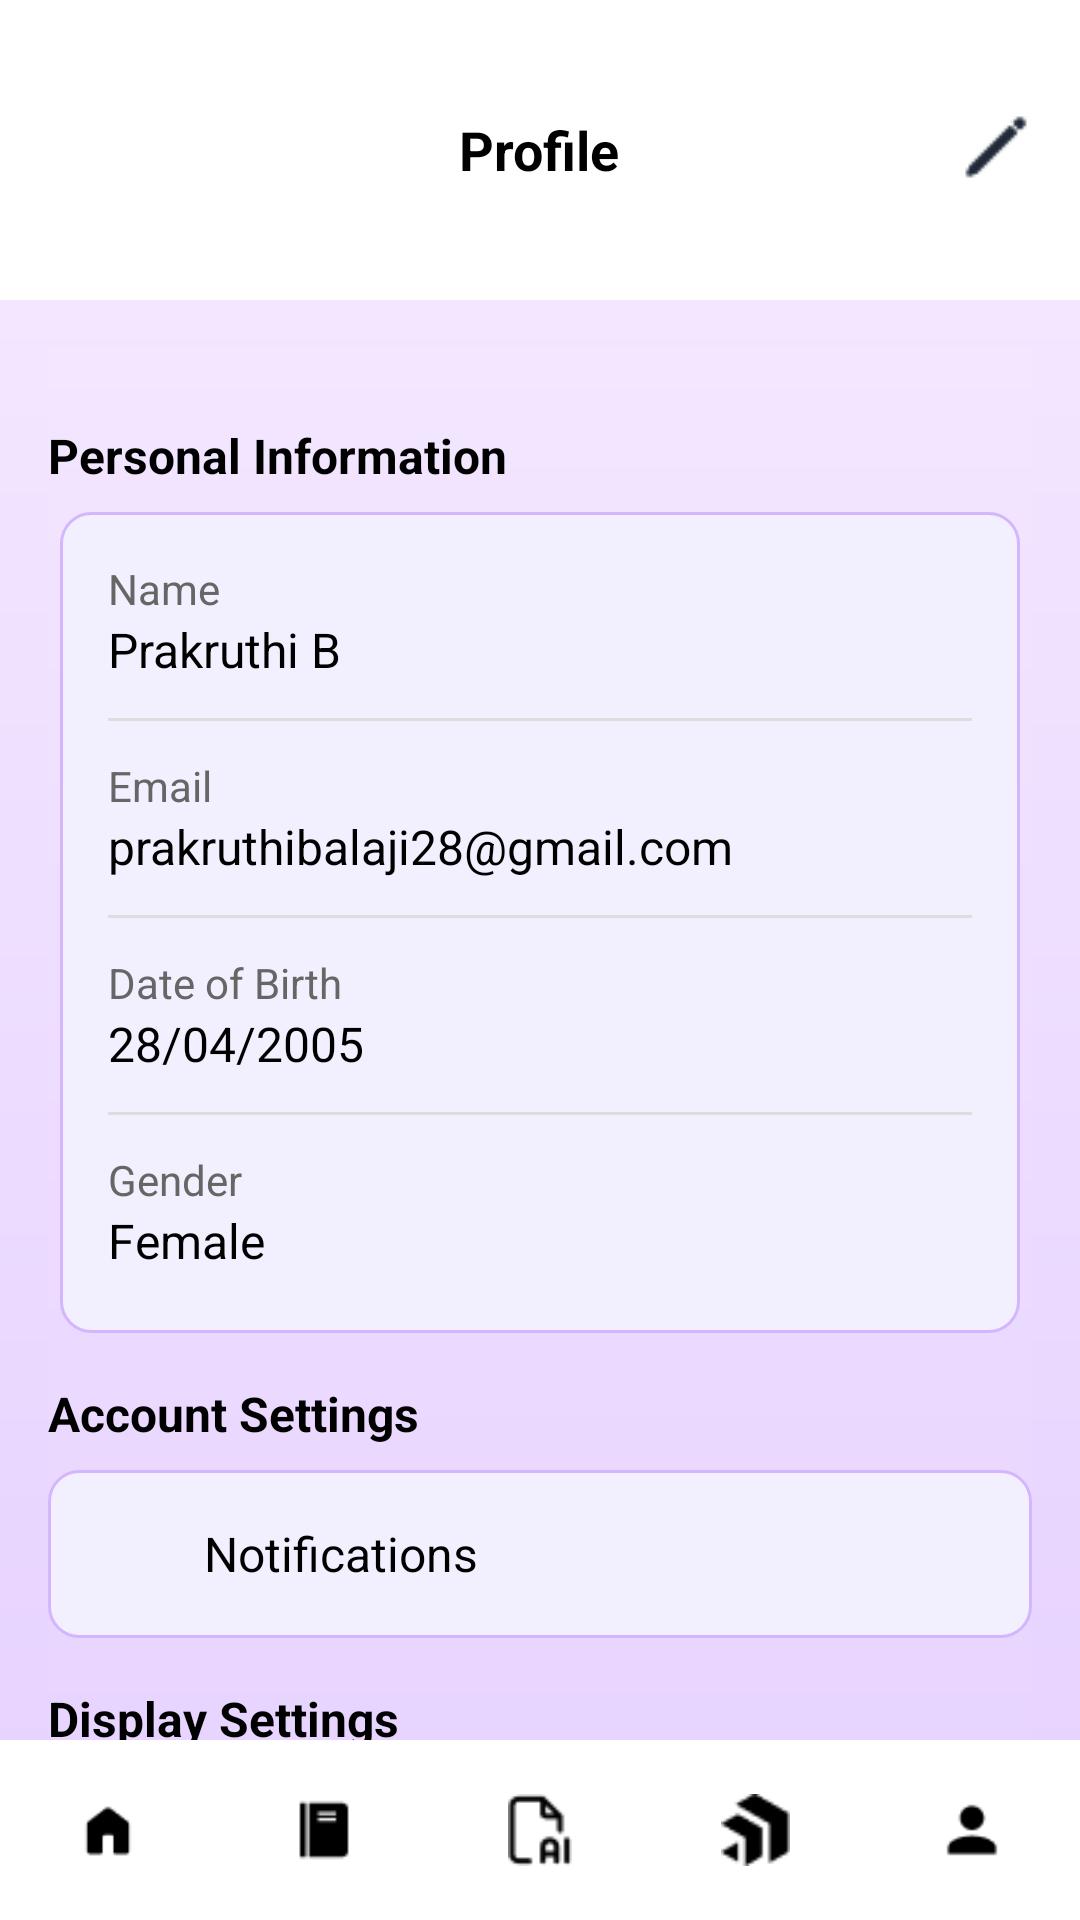

Icon click points for this 1080×1920 phone screenshot, format [x,y]:
Edit: [996,147]
Journal: [324,1830]
Profile: [972,1830]
